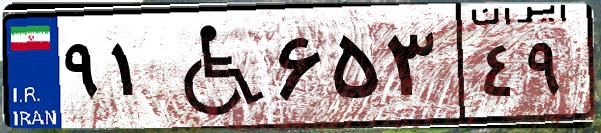1: (110, 28, 158, 98)
3: (385, 28, 445, 110)
4: (475, 38, 525, 113)
5: (330, 28, 385, 110)
6: (270, 28, 330, 110)
9: (57, 26, 110, 100), (525, 38, 570, 115)
ژ (معلولین و جانبازان): (158, 12, 270, 120)
